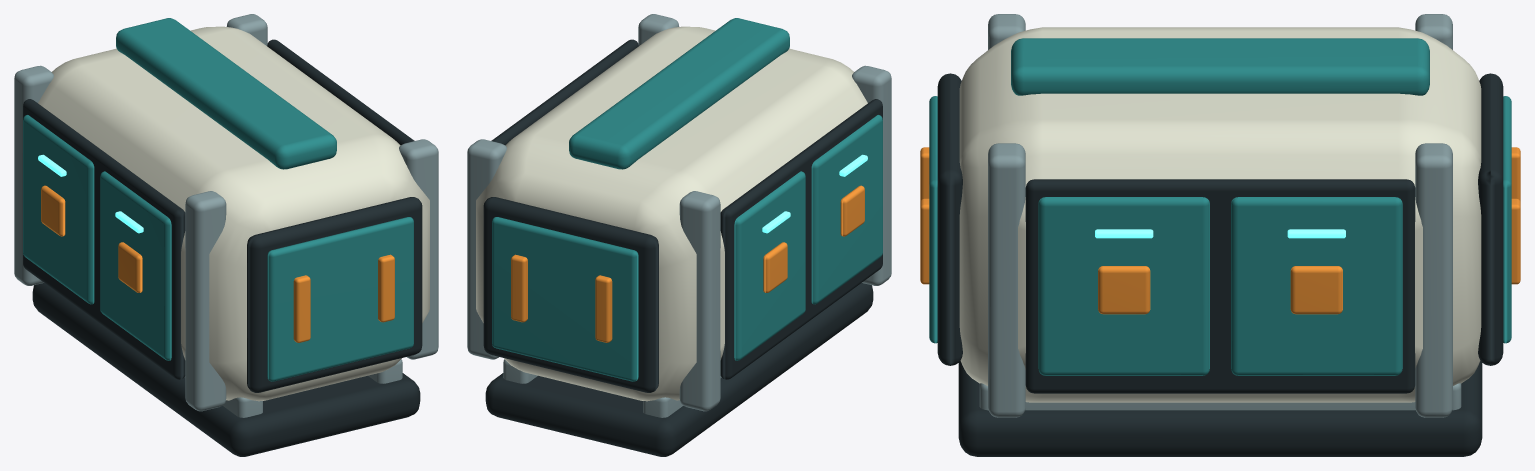
The model's file is robot_pod.glb.
The picture shows the model from 3 angles, left to right: view 1: azimuth 30°, elevation 25°; view 2: azimuth 150°, elevation 25°; view 3: azimuth 270°, elevation 25°; orthographic projection. The views are drawn at different scales.
Visible parts, largest first — view 1: Transport backbone, Robot transport pressure shell, Load bearing coupling, Quick release rail, Orange locking latch, Bay status lamp; view 2: Transport backbone, Robot transport pressure shell, Load bearing coupling, Quick release rail, Orange locking latch, Bay status lamp; view 3: Transport backbone, Robot transport pressure shell, Load bearing coupling, Quick release rail, Orange locking latch, Bay status lamp.
Part boxes in pixels (x1,y1,x2,y2): Transport backbone: (23,18,413,381); Robot transport pressure shell: (38,26,429,401); Load bearing coupling: (23,39,422,456); Quick release rail: (14,14,438,417); Orange locking latch: (41,185,394,342); Bay status lamp: (38,154,143,233); Transport backbone: (492,18,882,381); Robot transport pressure shell: (476,26,867,401); Load bearing coupling: (483,39,882,456); Quick release rail: (467,14,891,417); Orange locking latch: (511,185,864,342); Bay status lamp: (762,154,867,233); Transport backbone: (929,38,1511,375); Robot transport pressure shell: (959,27,1481,402); Load bearing coupling: (937,73,1503,456); Quick release rail: (979,14,1461,417); Orange locking latch: (920,147,1520,314); Bay status lamp: (1095,229,1345,238).
Size of the model in its own units: 1.91 by 1.86 by 2.87.
